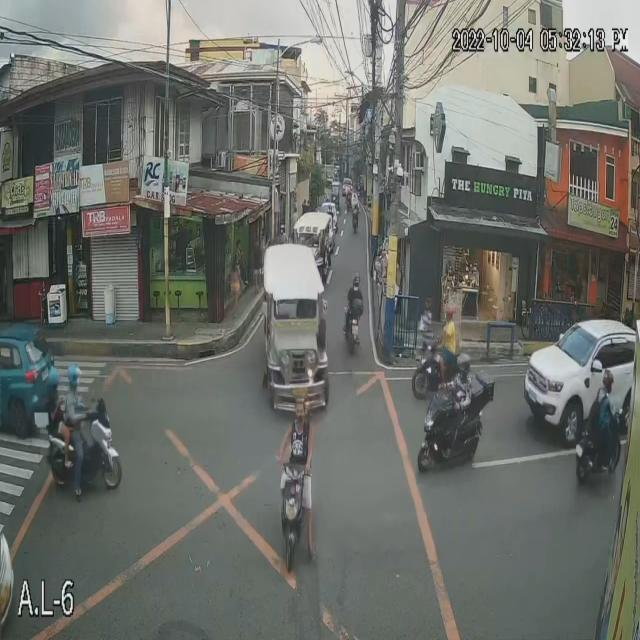Full-Faced: (68, 366, 86, 398), (454, 350, 470, 381), (601, 370, 617, 398), (441, 301, 456, 325), (47, 363, 59, 389), (350, 266, 363, 290), (344, 186, 357, 202)
Not-Wearing-Helmet: (291, 395, 307, 427)
